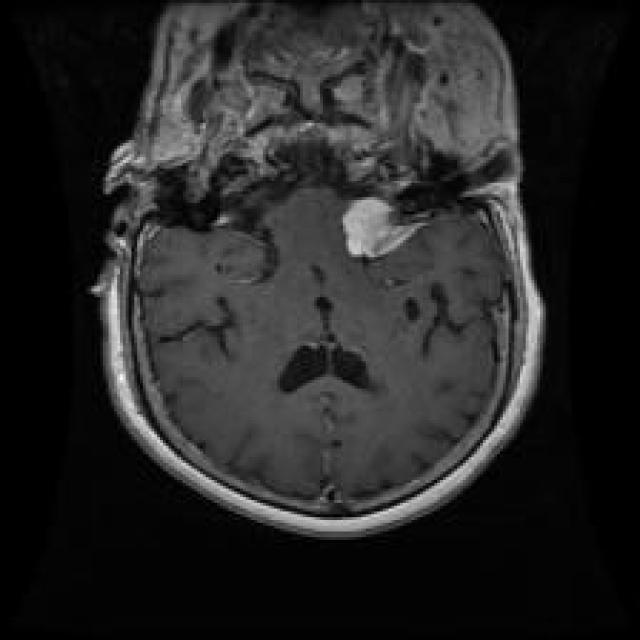meningioma_tumor: (330, 179, 451, 269)
